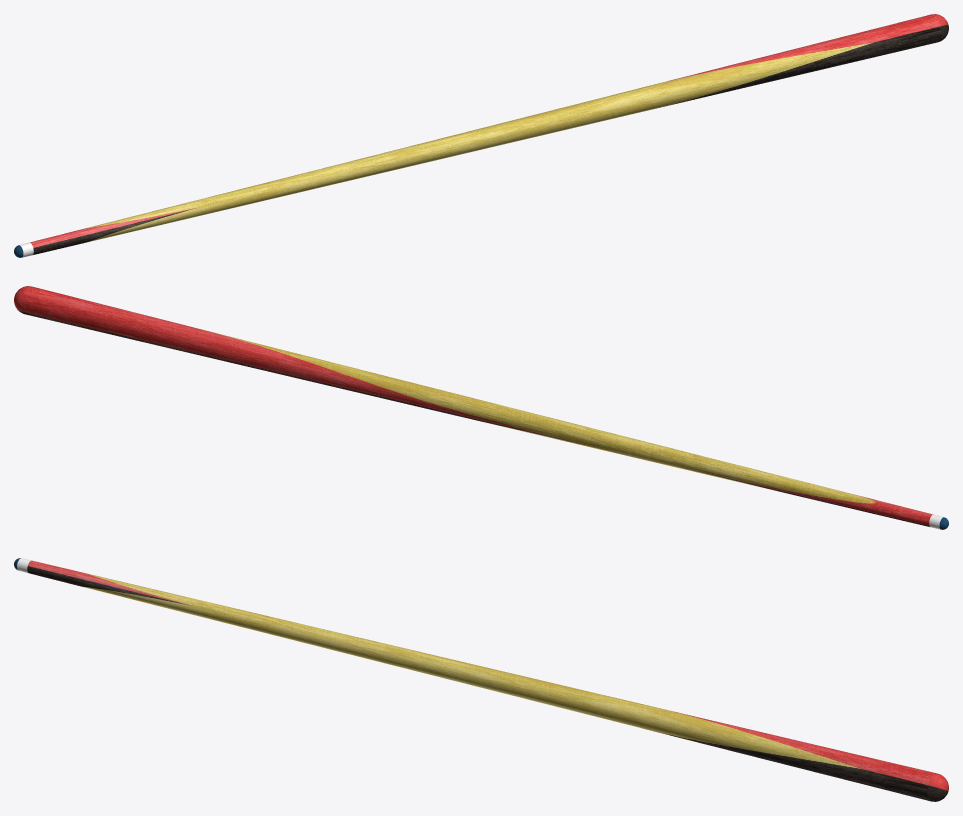
The model's file is Canne1.fbx.
The picture shows the model from 3 angles, top to bottom: view 1: azimuth 30°, elevation 25°; view 2: azimuth 150°, elevation 25°; view 3: azimuth 330°, elevation 25°; orthographic projection.
Parts seen in each view (by area): view 1: Cône; view 2: Cône; view 3: Cône.
Boxes of the visible parts, x1=… form: Cône: x1=30, y1=14, x2=941, y2=254; Cône: x1=21, y1=286, x2=932, y2=526; Cône: x1=27, y1=560, x2=936, y2=801.
Size of the model in its own units: 150 by 4.02 by 4.02.
4 materials, 3 textured.
